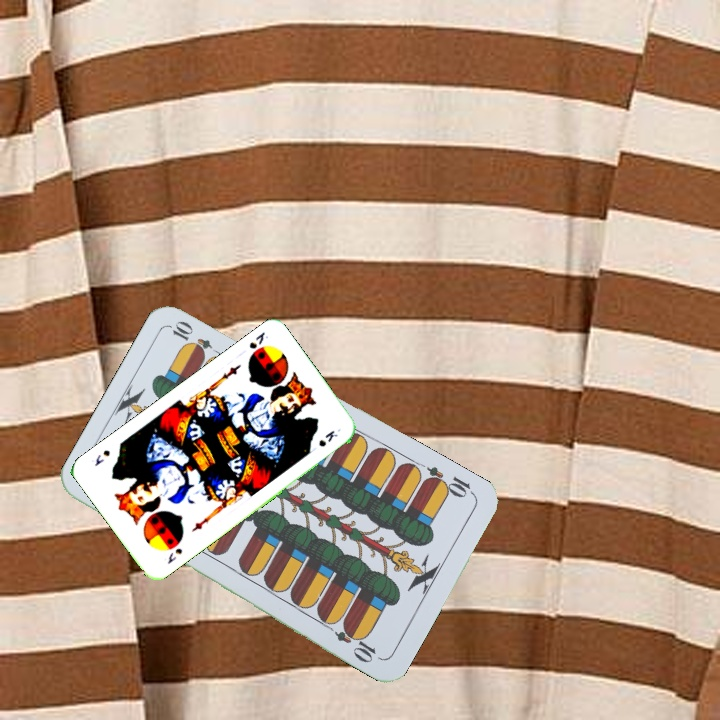E10: (420, 462, 477, 501)
SK: (245, 328, 271, 352), (163, 544, 185, 567)
